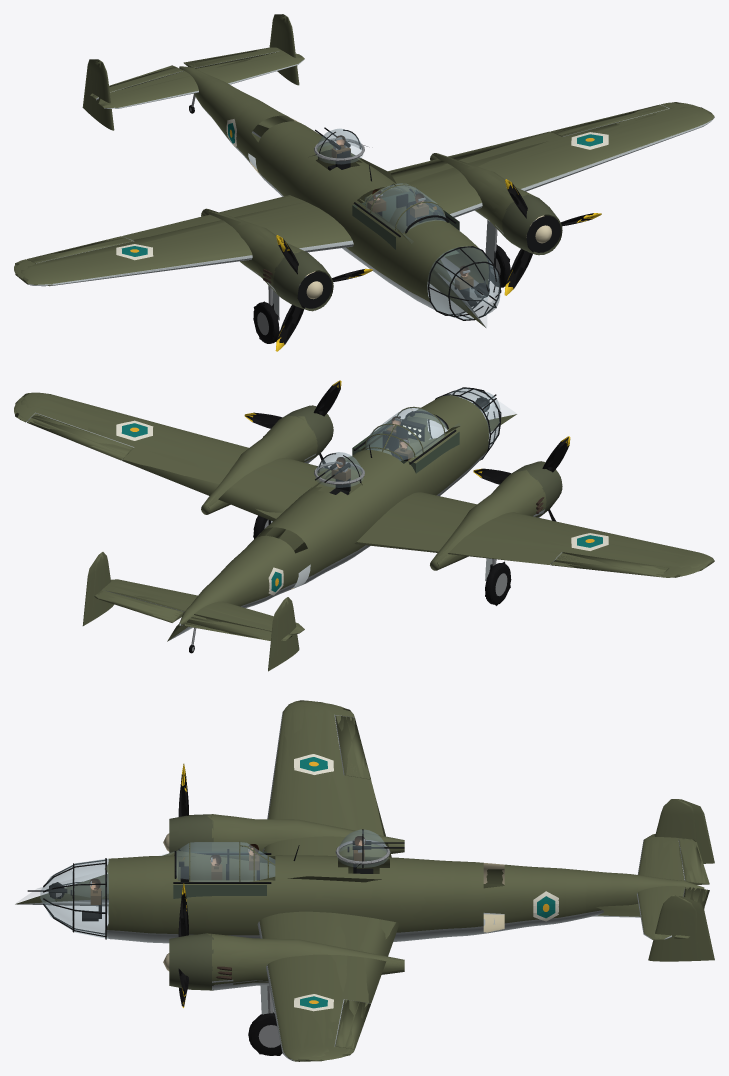
The model's file is Longreach.glb.
3 renders of one model, top to bottom at view 1: azimuth 30°, elevation 25°; view 2: azimuth 150°, elevation 25°; view 3: azimuth 270°, elevation 25°, orthographic. The views are drawn at different scales.
Parts seen in each view (by area): view 1: L0_Fuselage, L1_Fuselage, L1_WingL, L2_WingR, L1_WingR, L2_WingL, L0_WingR, L0_WingL, L1_Tail, L2_Tail, L2_Fuselage, L0_Tail (+13 smaller); view 2: L0_Fuselage, L1_Fuselage, L2_WingL, L1_WingR, L2_WingR, L1_WingL, L0_WingR, L0_WingL, L1_Tail, L0_Tail, L2_Tail, L0_Glass (+12 smaller); view 3: L0_Fuselage, L1_Fuselage, L2_WingL, L1_WingL, L0_WingL, L2_WingR, L1_WingR, L0_WingR, L1_Tail, L0_Tail, L2_Fuselage, L2_Tail (+10 smaller).
Part boxes in pixels (x1,y1,x2,y2): L0_Fuselage: (179,66,501,320); L1_Fuselage: (179,66,500,319); L1_WingL: (361,102,713,252); L2_WingR: (15,195,353,311); L1_WingR: (15,196,353,310); L2_WingL: (359,102,714,254); L0_WingR: (14,196,353,310); L0_WingL: (390,102,714,255); L1_Tail: (83,14,304,128); L2_Tail: (82,14,303,130); L2_Fuselage: (251,116,489,327); L0_Tail: (84,14,303,130); L0_Fuselage: (179,387,501,625); L1_Fuselage: (179,387,501,625); L2_WingL: (15,393,333,521); L1_WingR: (357,461,714,577); L2_WingR: (354,461,714,577); L1_WingL: (14,393,333,517); L0_WingR: (358,461,713,577); L0_WingL: (14,392,333,518); L1_Tail: (84,552,304,670); L0_Tail: (83,552,300,670); L2_Tail: (82,552,304,671); L0_Glass: (366,408,446,460); L0_Fuselage: (40,841,704,942); L1_Fuselage: (40,845,703,943); L2_WingL: (169,911,404,1061); L1_WingL: (169,911,404,1061); L0_WingL: (169,912,404,1061); L2_WingR: (169,700,404,857); L1_WingR: (169,700,404,857); L0_WingR: (169,701,404,856); L1_Tail: (637,799,712,961); L0_Tail: (637,799,713,961); L2_Fuselage: (15,851,704,917); L2_Tail: (637,799,714,961).
Size of the model in its own units: 20.4 by 4.34 by 16.83.
